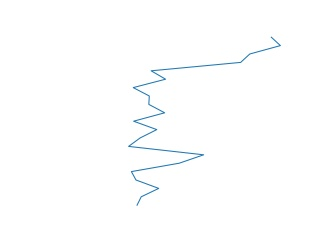crevasseRiverChannelBar: (120, 34, 286, 210)
